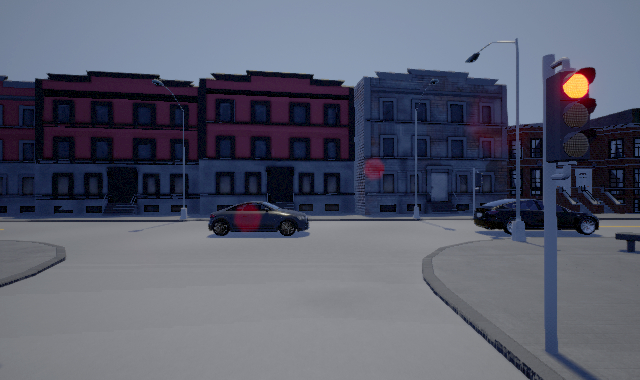traffic_light: (546, 65, 598, 164)
vehicle: (474, 197, 600, 234), (208, 201, 310, 236)
